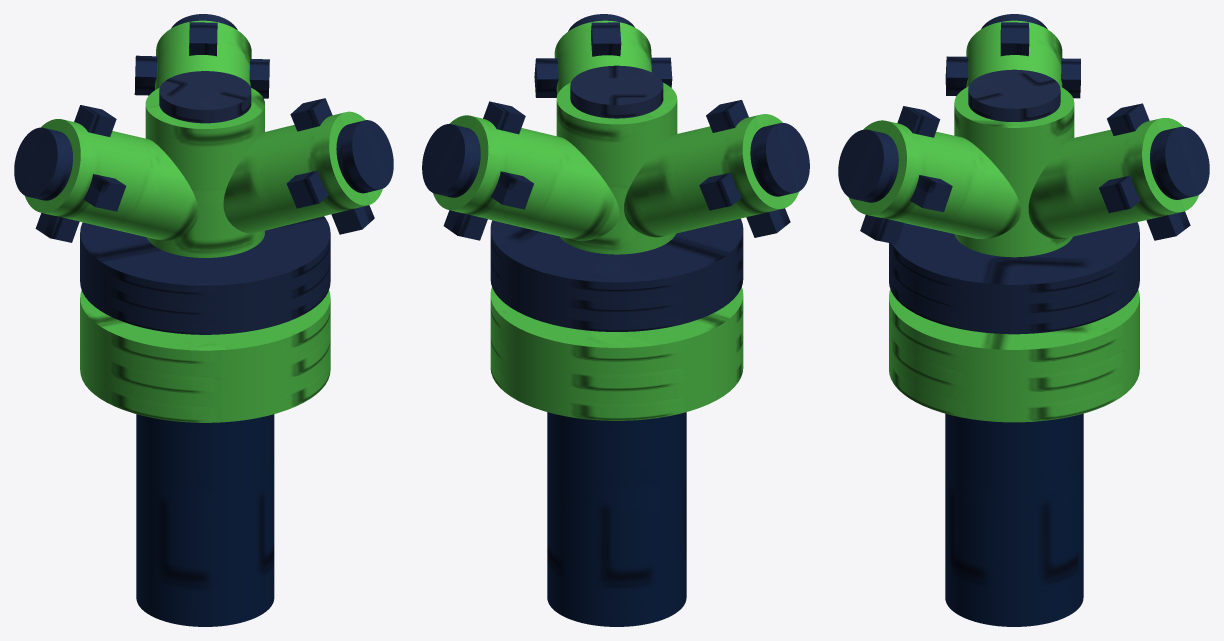
File: sprinkler.glb
The picture shows the model from 3 angles, left to right: view 1: azimuth 30°, elevation 25°; view 2: azimuth 150°, elevation 25°; view 3: azimuth 270°, elevation 25°; orthographic projection.
Parts seen in each view (by area): view 1: Object_5, Object_7, Object_3, Object_8, Object_4, Object_2; view 2: Object_5, Object_7, Object_3, Object_8, Object_4, Object_2, Object_6; view 3: Object_5, Object_7, Object_3, Object_8, Object_4, Object_2, Object_6.
Boxes of the visible parts, box(x1,y1,x2,y2) form: Object_5: box(14, 14, 393, 242); Object_7: box(136, 414, 274, 626); Object_3: box(80, 290, 330, 422); Object_8: box(80, 216, 330, 334); Object_4: box(145, 88, 264, 257); Object_2: box(159, 71, 251, 123); Object_5: box(433, 14, 809, 240); Object_7: box(547, 412, 686, 626); Object_3: box(490, 287, 743, 420); Object_8: box(490, 218, 743, 331); Object_4: box(556, 82, 677, 254); Object_2: box(570, 65, 663, 118); Object_6: box(422, 124, 464, 193); Object_5: box(838, 14, 1198, 244); Object_7: box(945, 413, 1083, 626); Object_3: box(889, 289, 1139, 422); Object_8: box(889, 222, 1139, 334); Object_4: box(954, 86, 1074, 257); Object_2: box(968, 69, 1060, 121); Object_6: box(1165, 126, 1209, 196).
Bounding box in the file's own units: 0.8399 × 1.34 × 0.871.
6 materials, 6 textured.
